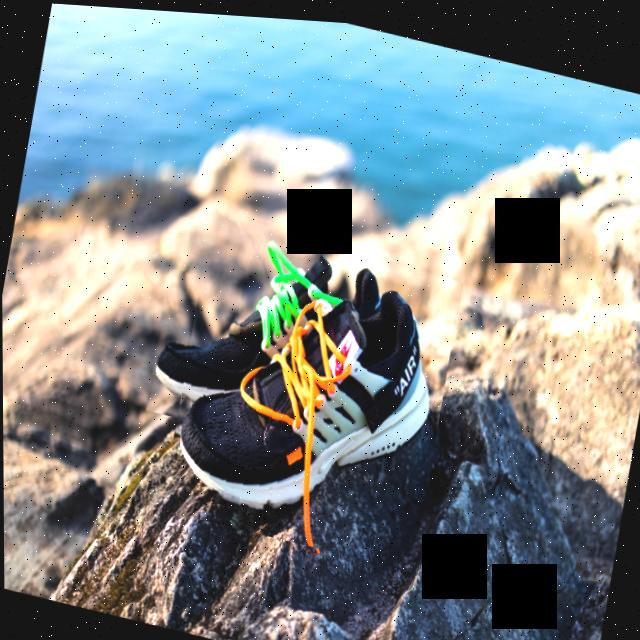shoe: (159, 200, 467, 568), (143, 198, 390, 458)
